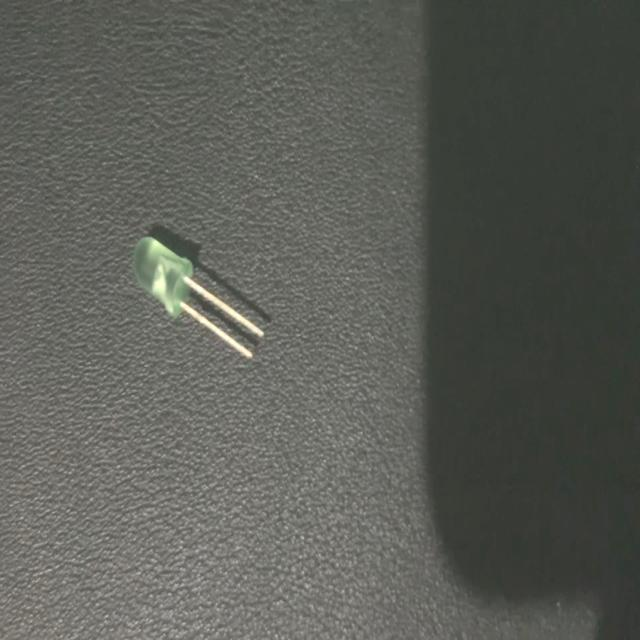LED: (132, 231, 262, 365)
